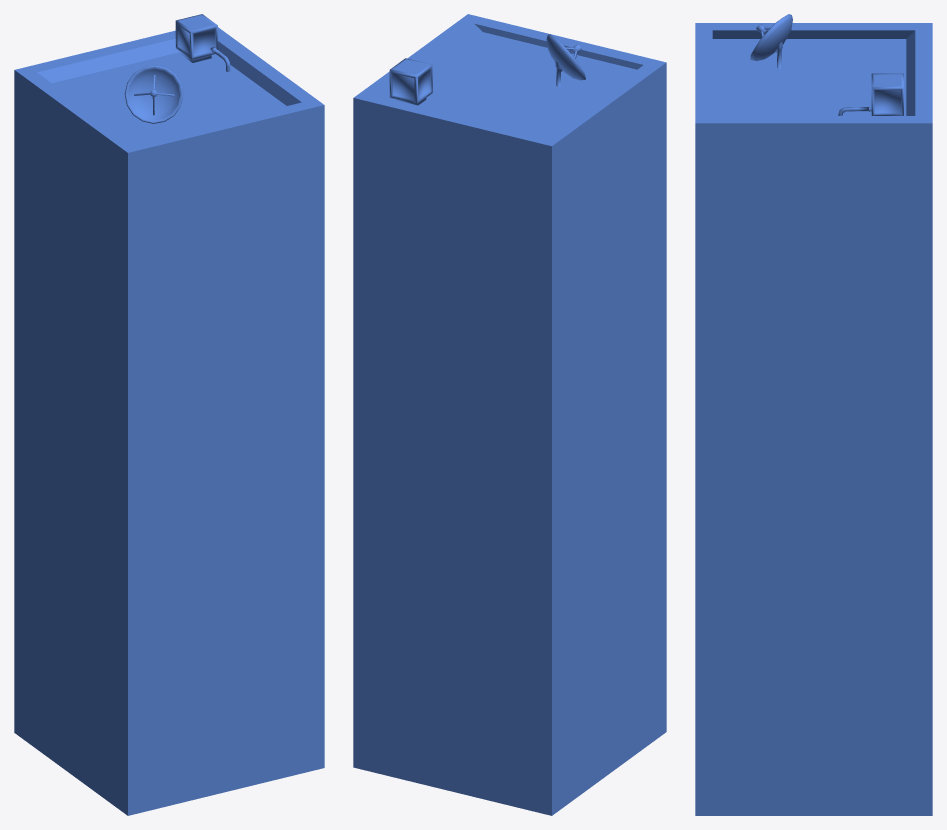
Rendered from Building5_blue.fbx.
3 renders of one model, left to right at view 1: azimuth 30°, elevation 25°; view 2: azimuth 150°, elevation 25°; view 3: azimuth 270°, elevation 25°, orthographic. The views are drawn at different scales.
Visible parts, largest first — view 1: Building 5; view 2: Building 5; view 3: Building 5.
Part boxes in pixels (x1=…): Building 5: x1=14, y1=14, x2=324, y2=815; Building 5: x1=353, y1=14, x2=666, y2=815; Building 5: x1=695, y1=14, x2=932, y2=815.
Bounding box in the file's own units: 1305 × 4458 × 1305.
1 material, 1 textured.
